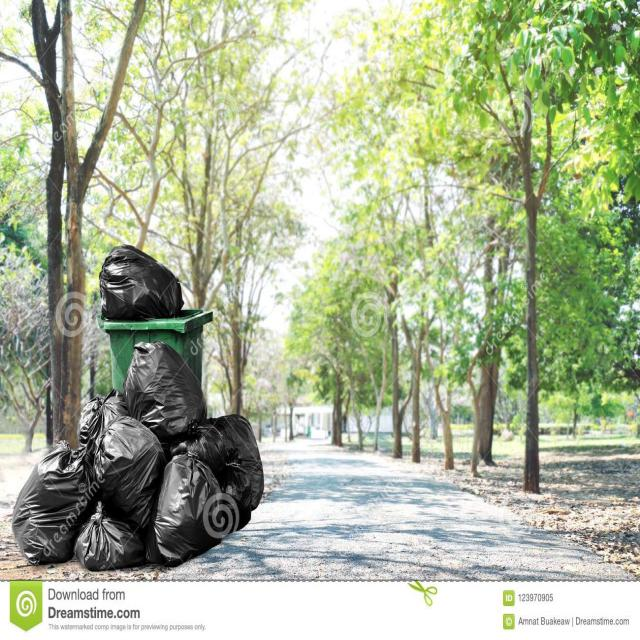plastic_bag: (16, 439, 86, 565), (120, 339, 206, 434), (199, 418, 283, 515), (96, 246, 189, 328), (155, 468, 229, 559), (81, 393, 135, 517), (81, 513, 149, 574)
